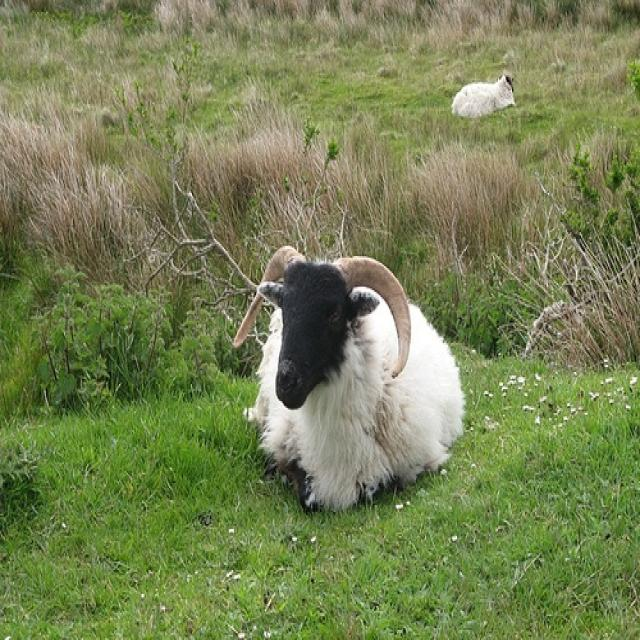sheep: (229, 237, 470, 522), (444, 72, 526, 120)
